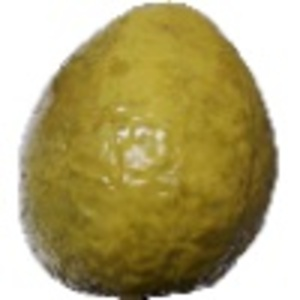goiaba: (10, 4, 281, 297)
